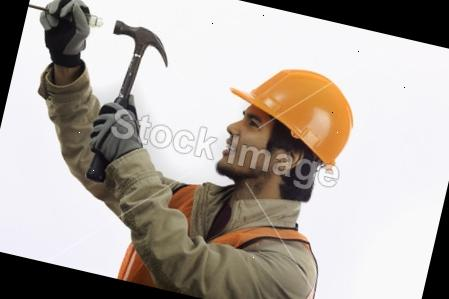helmet: (214, 49, 366, 170)
